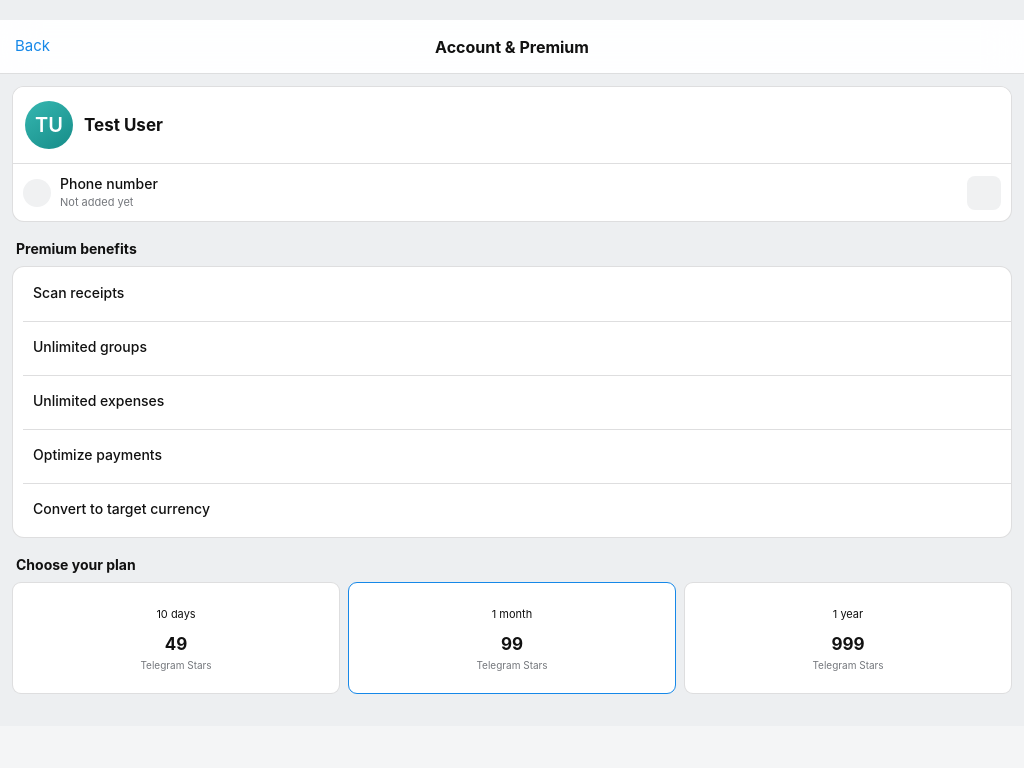
Test case: shows an actionable error when an invoice cannot be created
Click the button "10 days 49 Telegram Stars" at (176, 638), box x1=12 y1=582 x2=340 y2=694
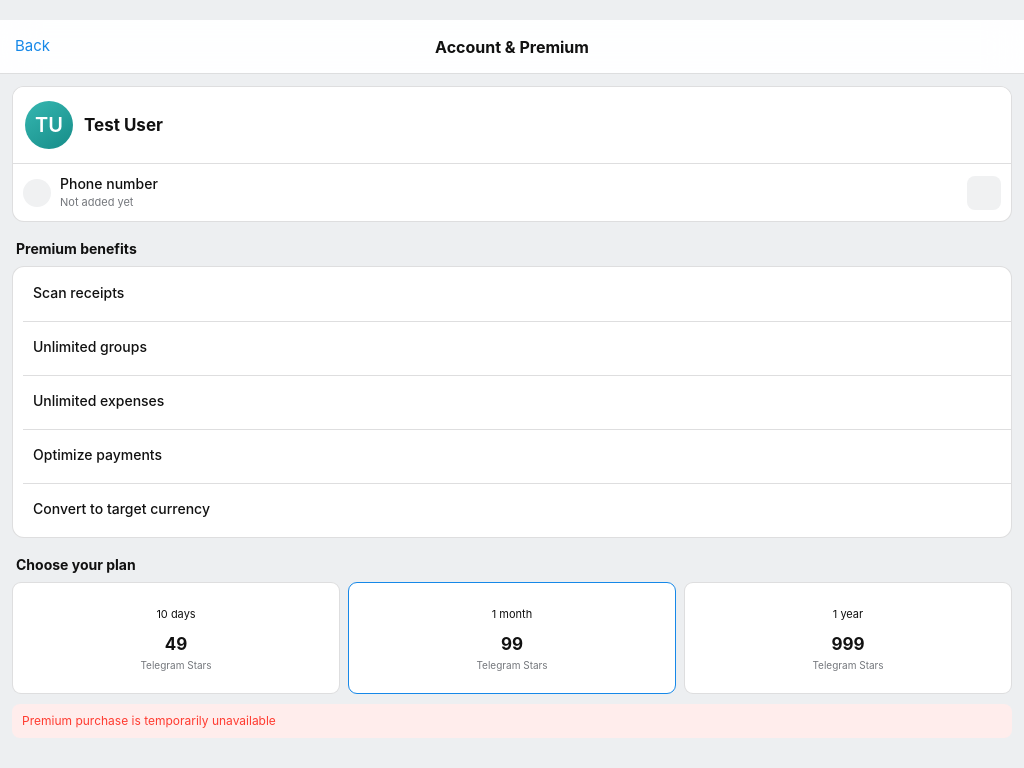
Check: the message reads "Premium purchase is temporarily unavailable", box x1=22 y1=713 x2=276 y2=728
